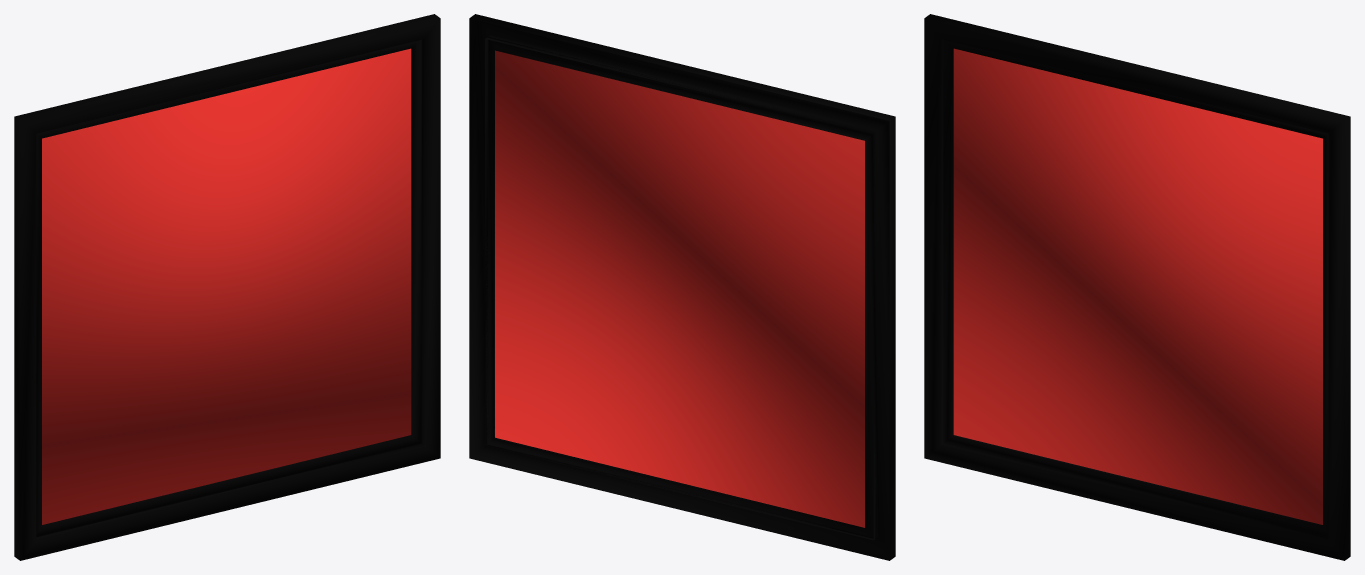
The model's file is SQUARE.dae.
The picture shows the model from 3 angles, left to right: view 1: azimuth 30°, elevation 25°; view 2: azimuth 150°, elevation 25°; view 3: azimuth 330°, elevation 25°; orthographic projection.
Visible parts, largest first — view 1: Plane; view 2: Plane; view 3: Plane.
Part boxes in pixels (box(x1,y1,x2,y2)): Plane: box(14, 14, 440, 560); Plane: box(469, 14, 895, 560); Plane: box(924, 14, 1350, 560).
Bounding box in the file's own units: 2 × 0.05 × 2.
